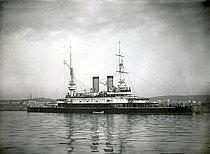Ship: (30, 87, 196, 118)
